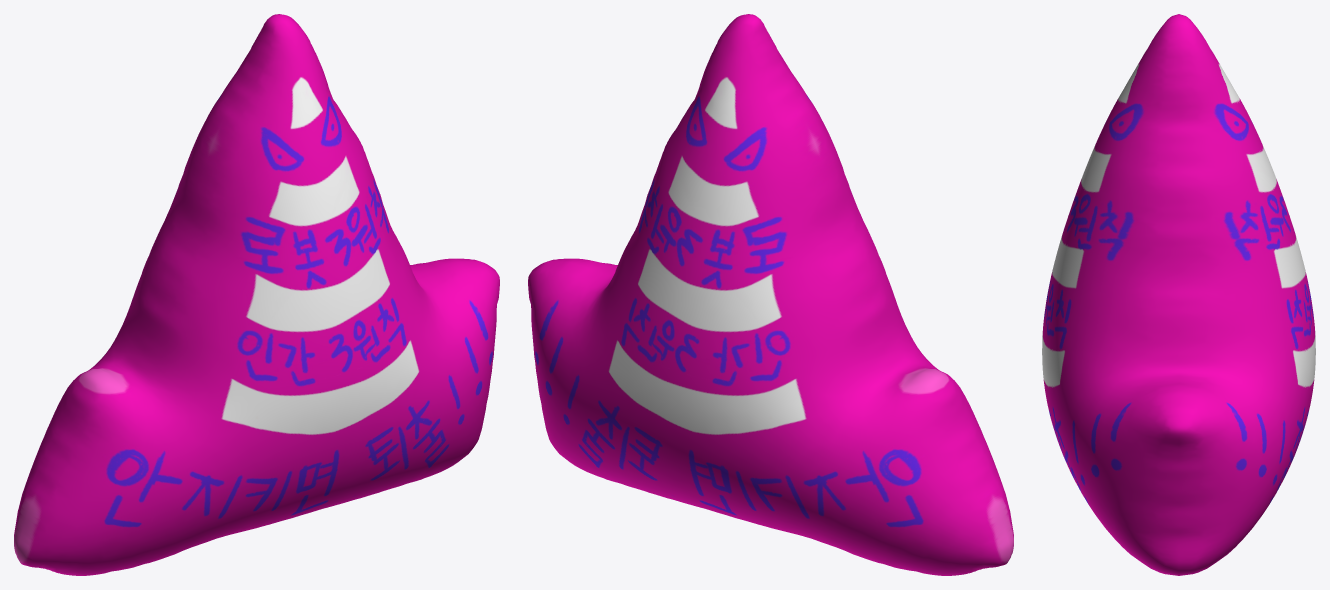
File: pink_cone2.glb
The picture shows the model from 3 angles, left to right: view 1: azimuth 30°, elevation 25°; view 2: azimuth 150°, elevation 25°; view 3: azimuth 270°, elevation 25°; orthographic projection.
Bounding box in the file's own units: 6.71 × 6.79 × 3.34.
Materials: 1 (1 with a texture image).
